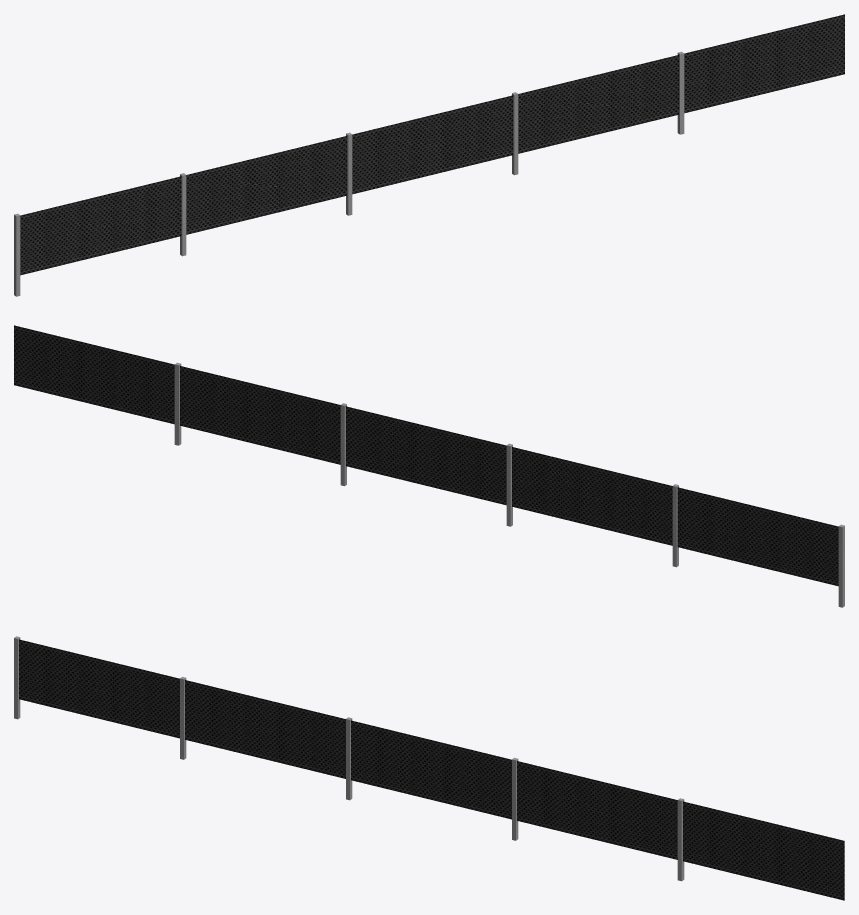
File: fence-chainlink-2wire-5s-cbj_LOD00.gltf
3 renders of one model, top to bottom at view 1: azimuth 30°, elevation 25°; view 2: azimuth 150°, elevation 25°; view 3: azimuth 330°, elevation 25°, orthographic.
Visible parts, largest first — view 1: post; view 2: post; view 3: post.
Boxes of the visible parts, x1,y1,x2,y2 form: post: (14,14,844,296); post: (14,325,844,607); post: (14,636,844,900).
Bounding box in the file's own units: 14.35 × 1.33 × 0.07.
